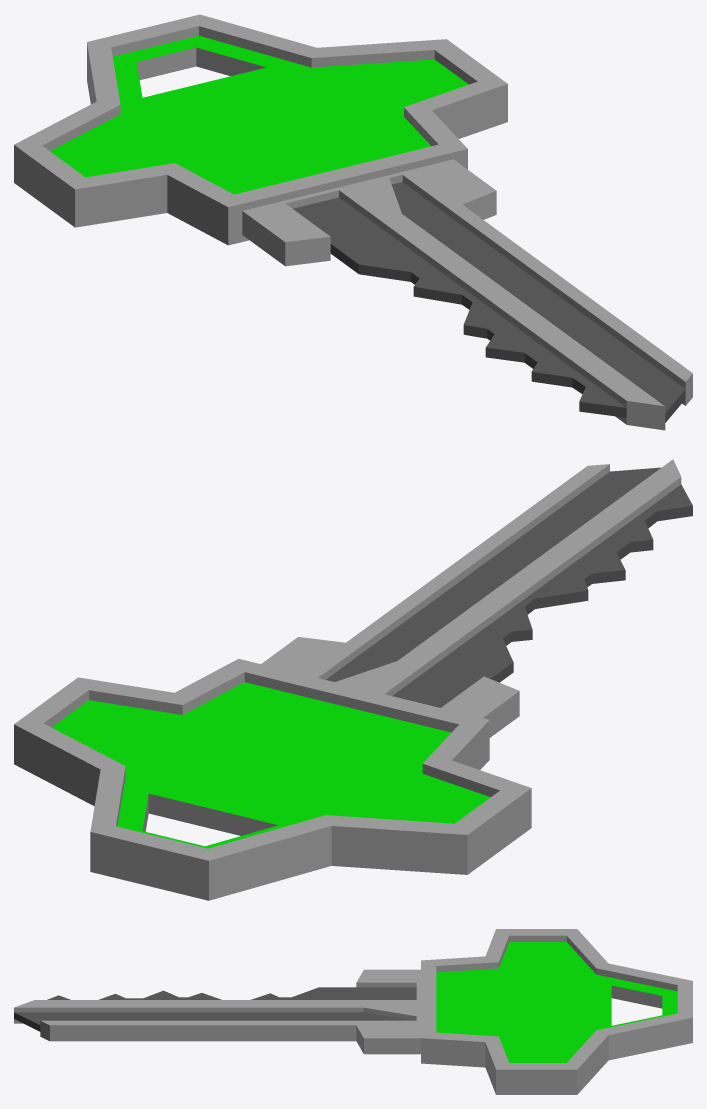
Rendered from Key.fbx.
3 views of the same model, one above another, from view 1: azimuth 30°, elevation 25°; view 2: azimuth 150°, elevation 25°; view 3: azimuth 270°, elevation 25° (orthographic). The views are drawn at different scales.
Parts seen in each view (by area): view 1: Key; view 2: Key; view 3: Key.
Part boxes in pixels (x1,y1,x2,y2): Key: [14, 14, 692, 430]; Key: [14, 459, 692, 900]; Key: [14, 929, 692, 1094].
Bounding box in the file's own units: 6.43 × 0.5424 × 13.15.
